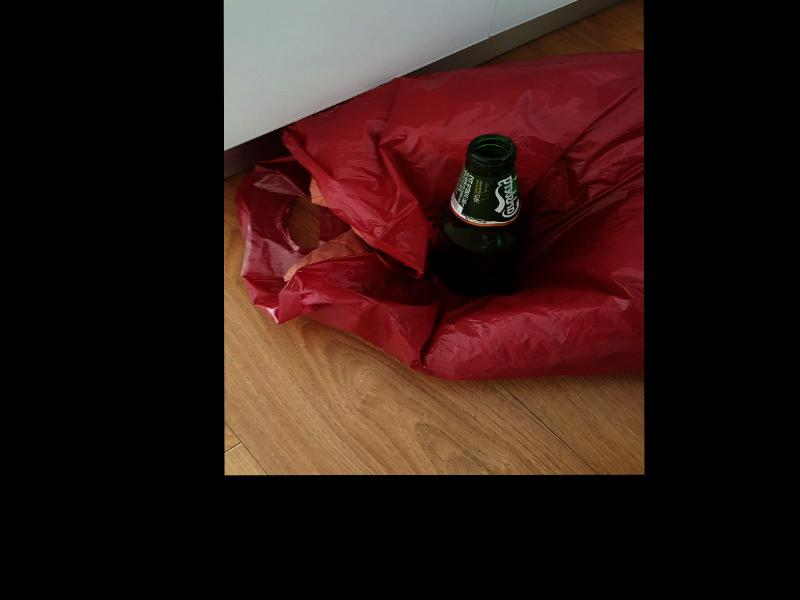Beer: (435, 135, 530, 297)
